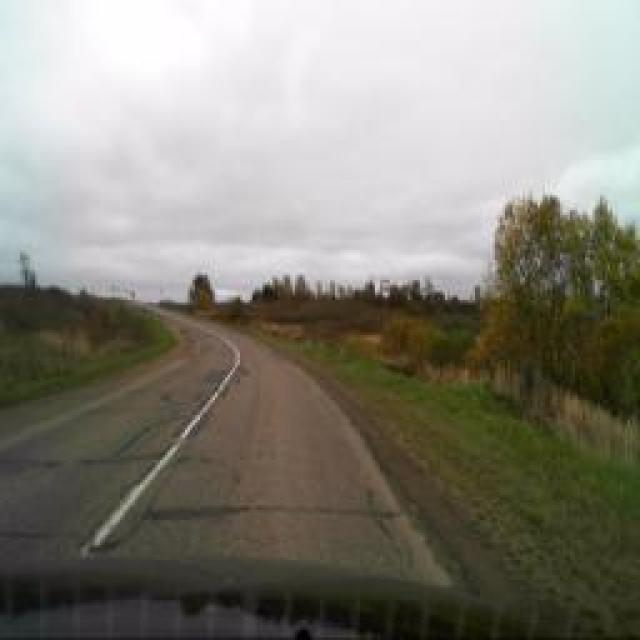sign: (380, 279, 392, 299)
